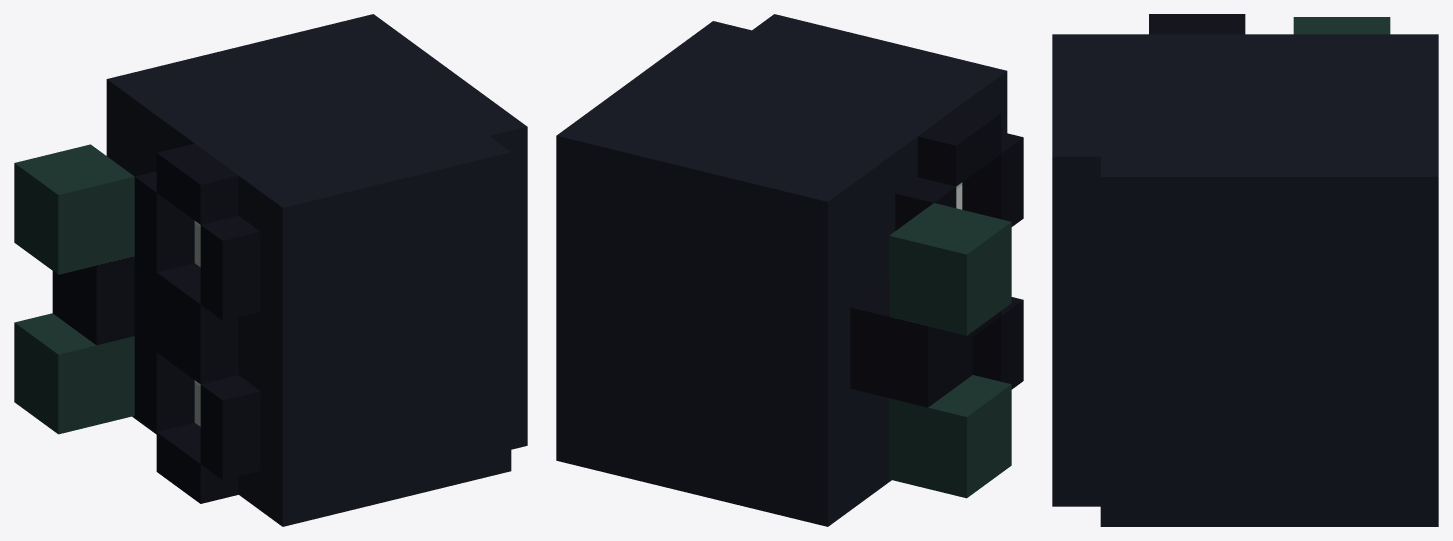
The model's file is Head6.fbx.
3 views of the same model, side by side, from view 1: azimuth 30°, elevation 25°; view 2: azimuth 150°, elevation 25°; view 3: azimuth 270°, elevation 25° (orthographic). The views are drawn at different scales.
Parts seen in each view (by area): view 1: Untitled.015; view 2: Untitled.015; view 3: Untitled.015.
Part boxes in pixels (x1,y1,x2,y2): Untitled.015: (14,14,527,526); Untitled.015: (556,14,1023,526); Untitled.015: (1052,14,1438,526).
Size of the model in its own units: 100 by 80 by 80.
